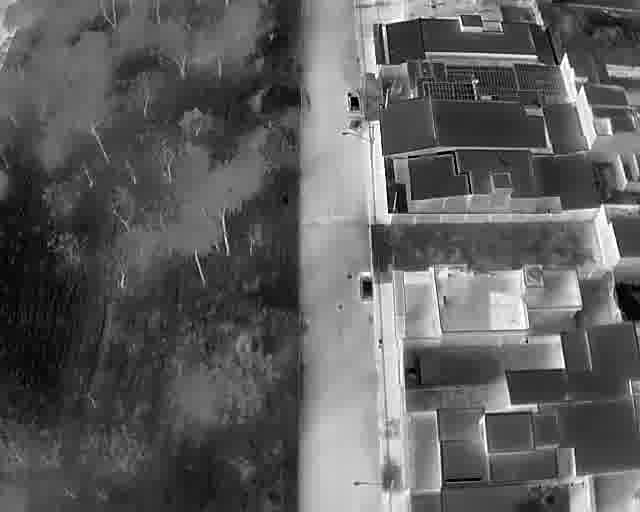car: (358, 271, 375, 302), (345, 88, 362, 115)
